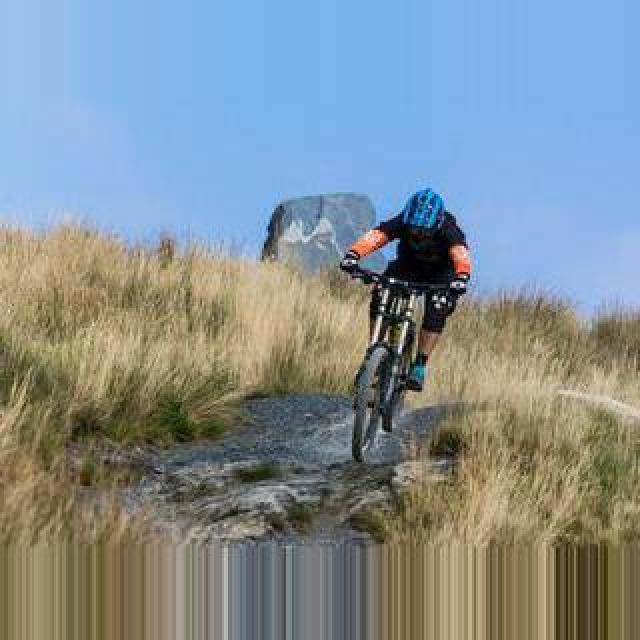MC-Bike: (340, 188, 472, 414)
Person: (342, 256, 462, 466)
